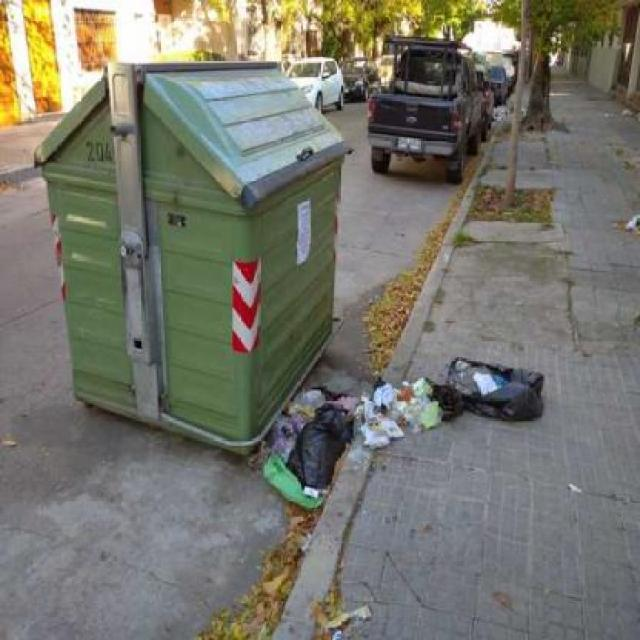garbage: (350, 358, 559, 444), (266, 382, 333, 516), (625, 214, 639, 247)
